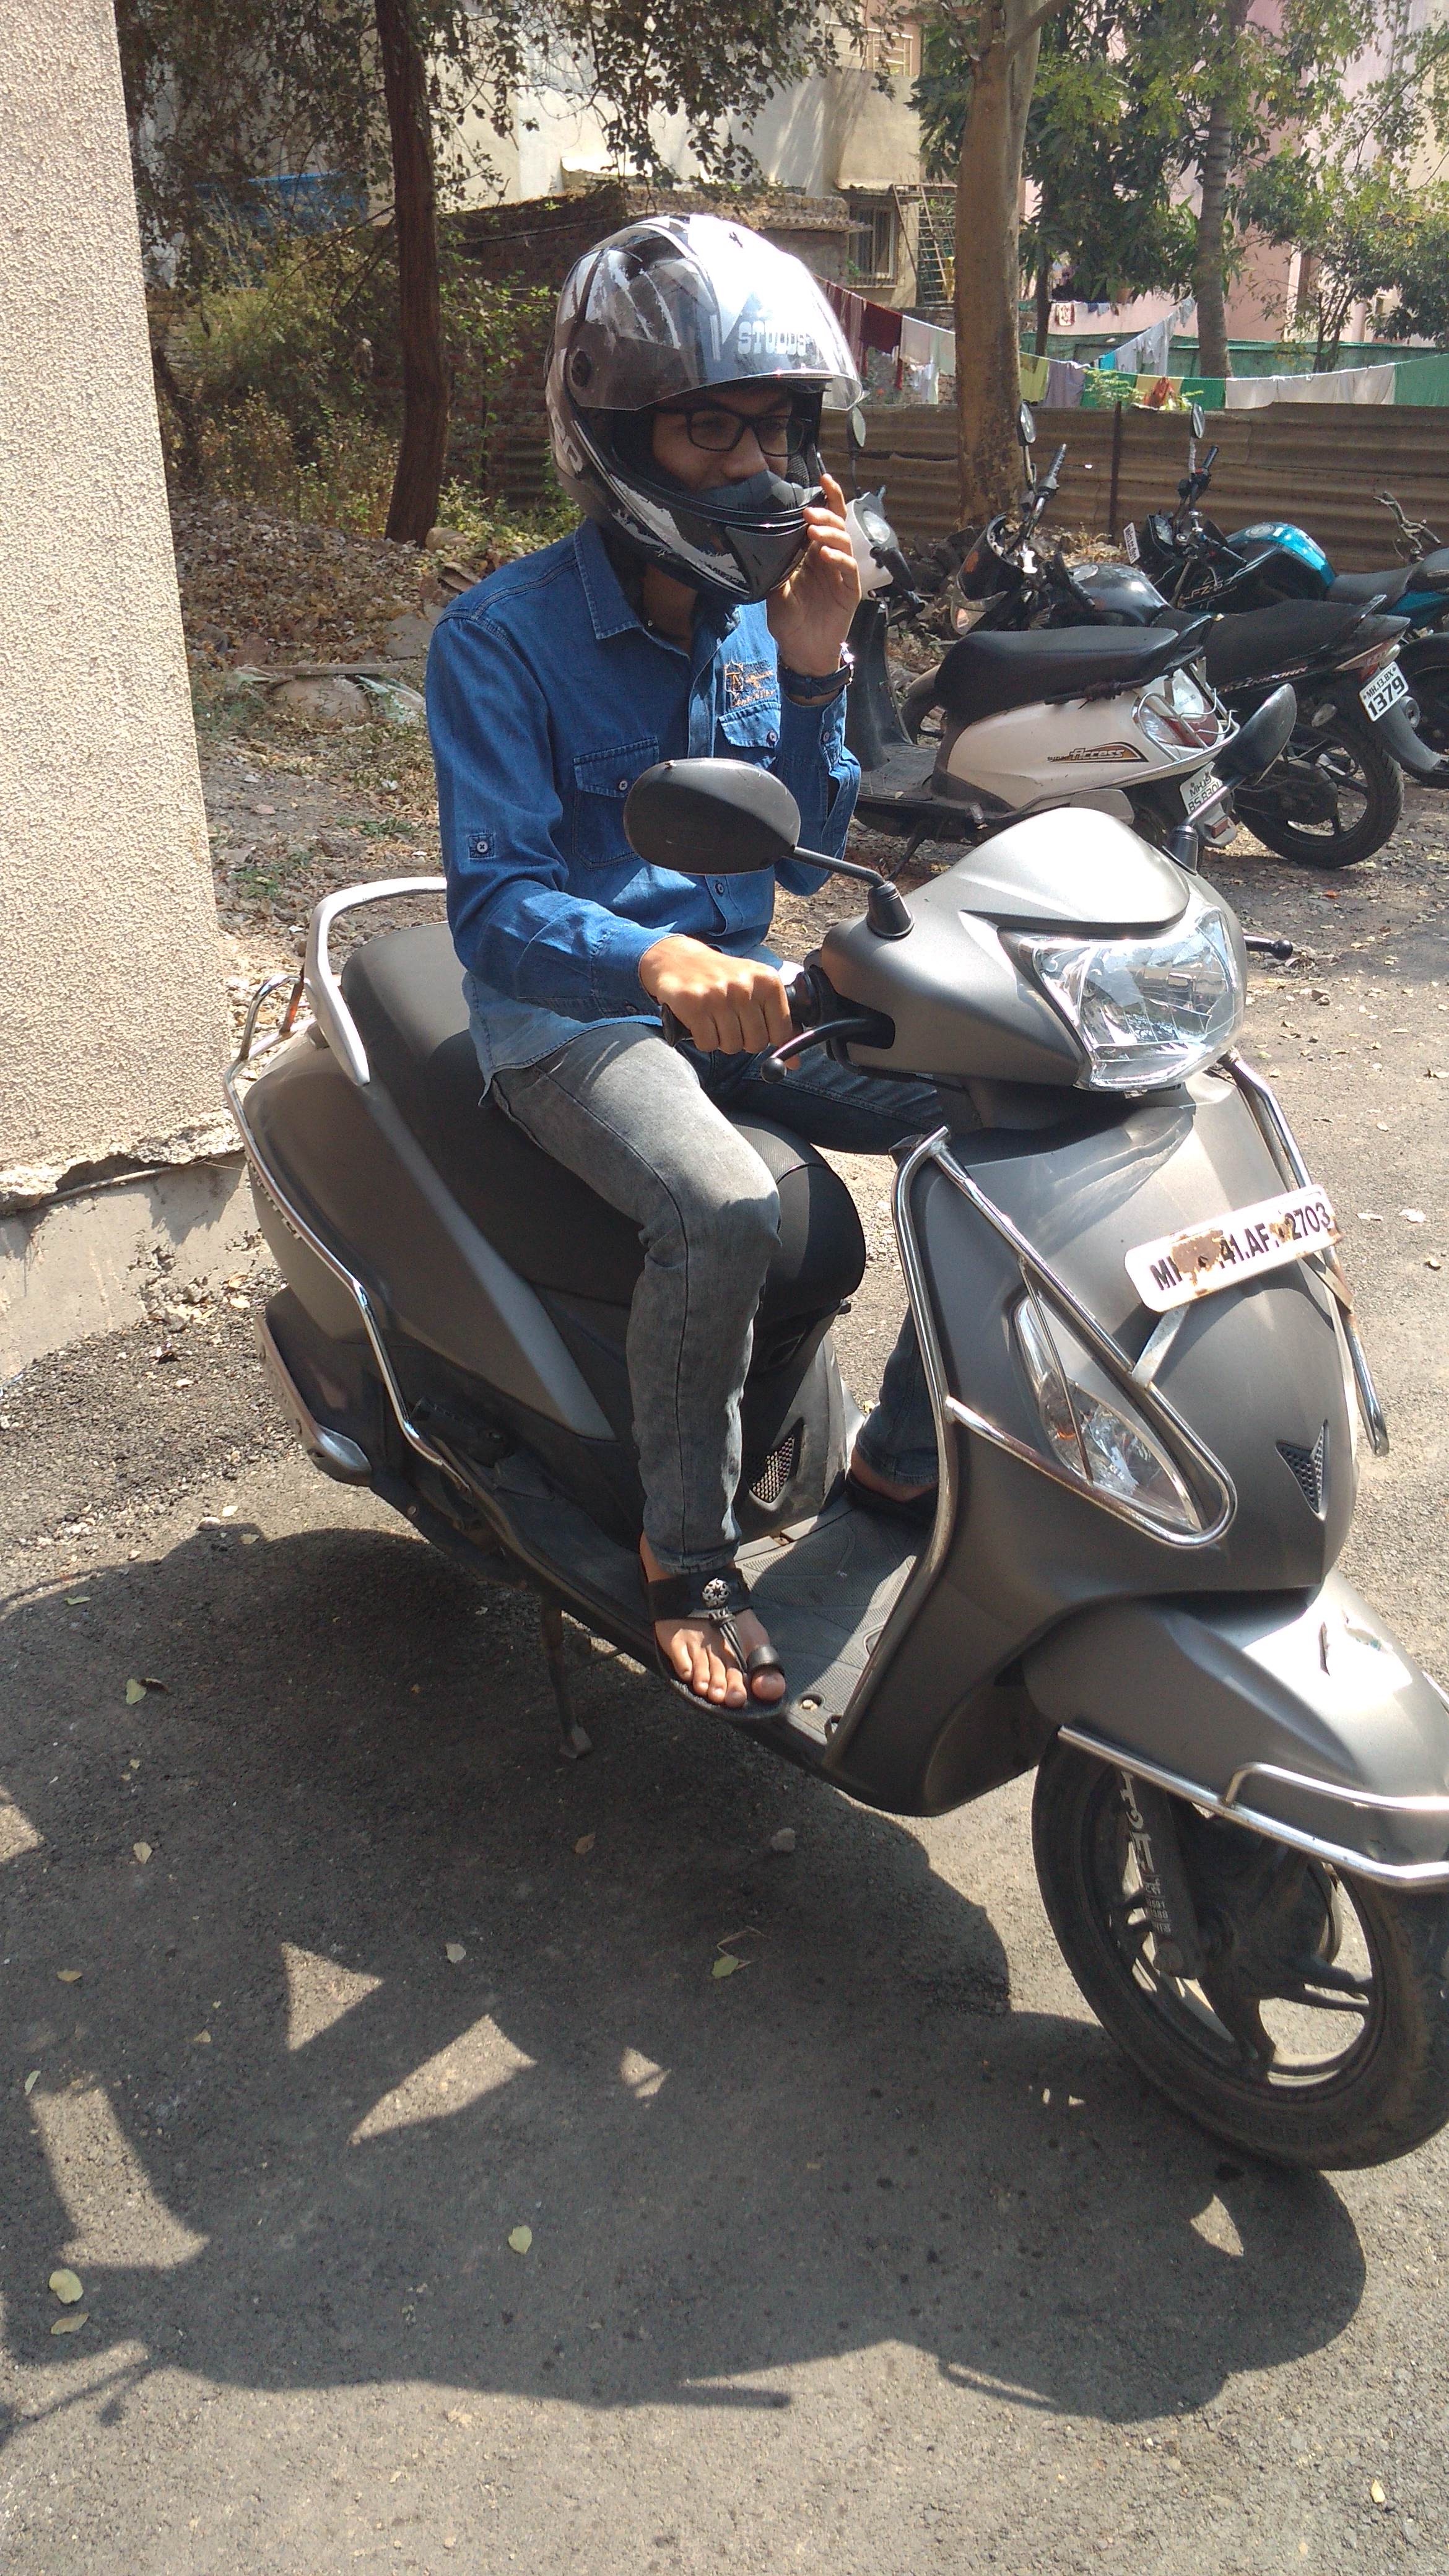helmet: (432, 189, 927, 1284)
